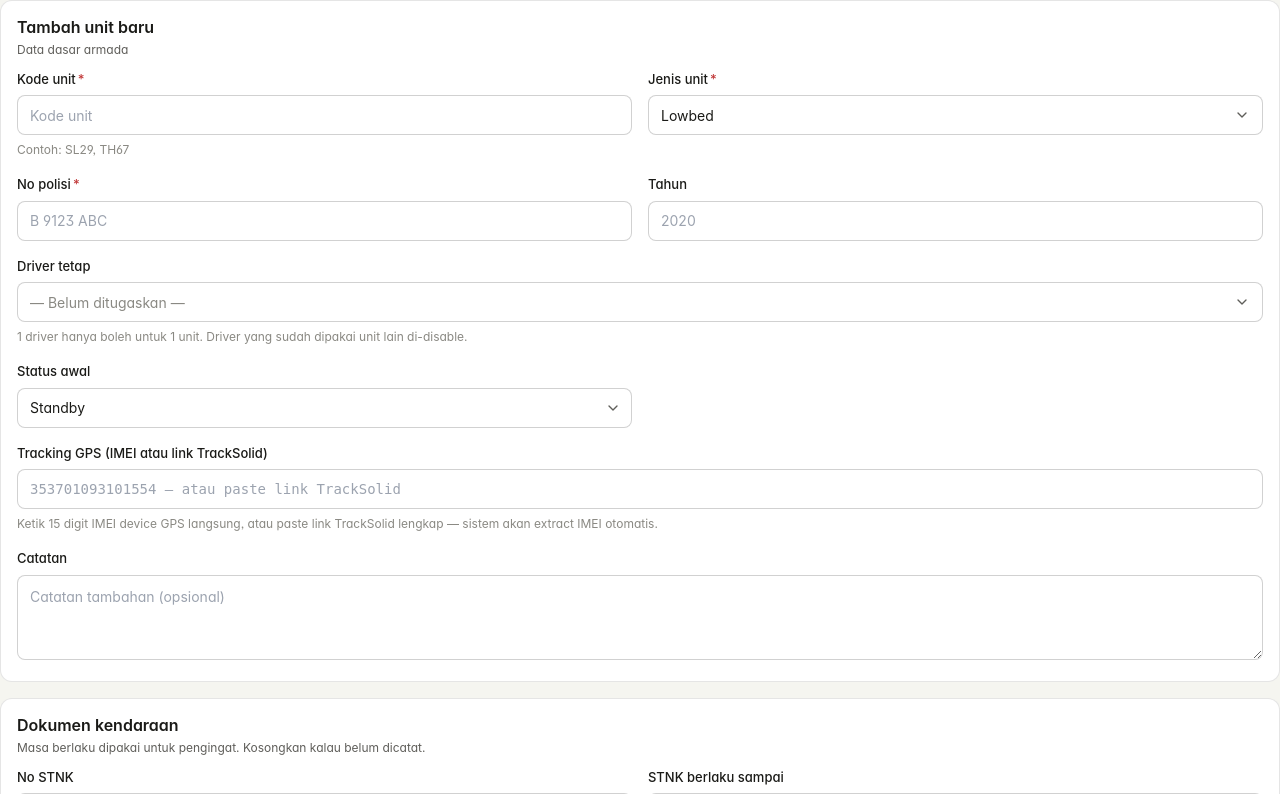
UnitForm — dropdown driver › driver yang sudah dipakai unit lain tidak bisa dipilih
Click the button with class "combobox-trigger" showing "— Belum ditugaskan —" at (107, 302), box [17,282,1263,322]
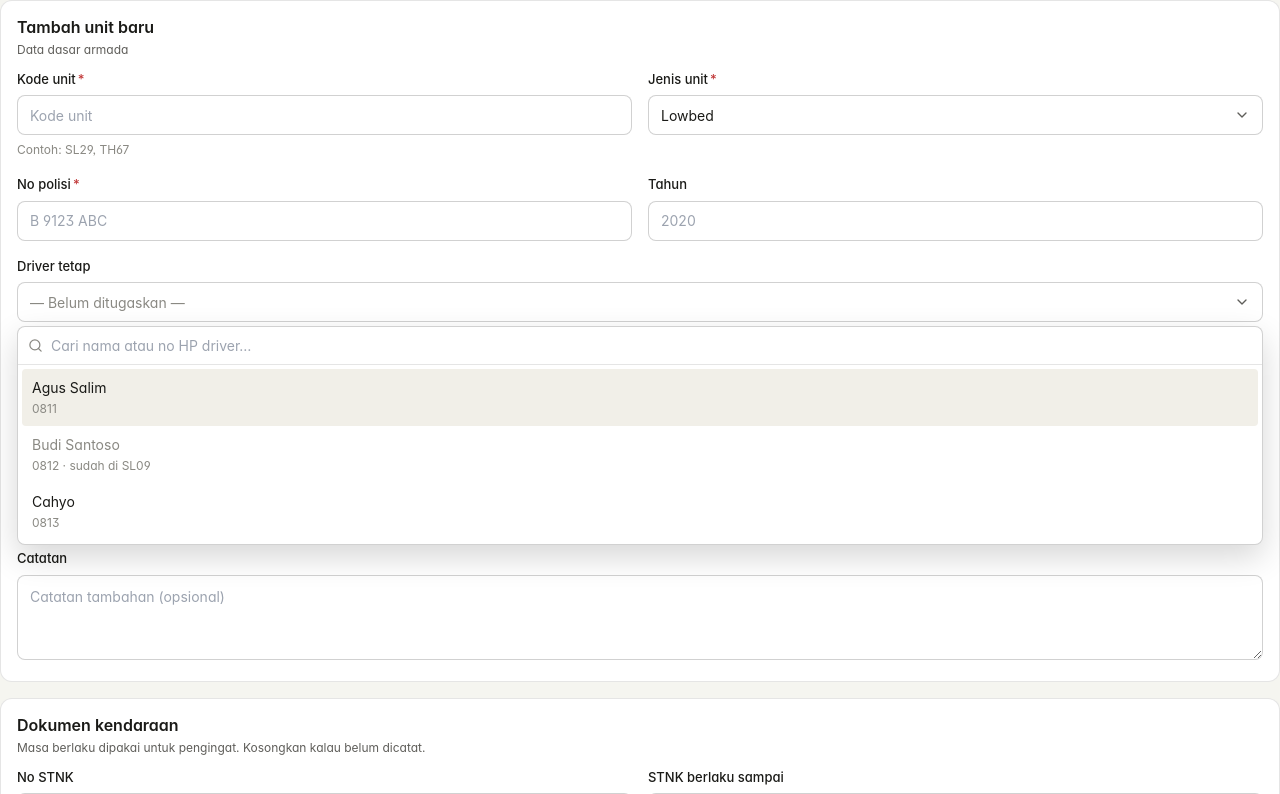
Check: the option "Budi Santoso 0812 · sudah di SL09" is shown, box [32,436,151,474]
